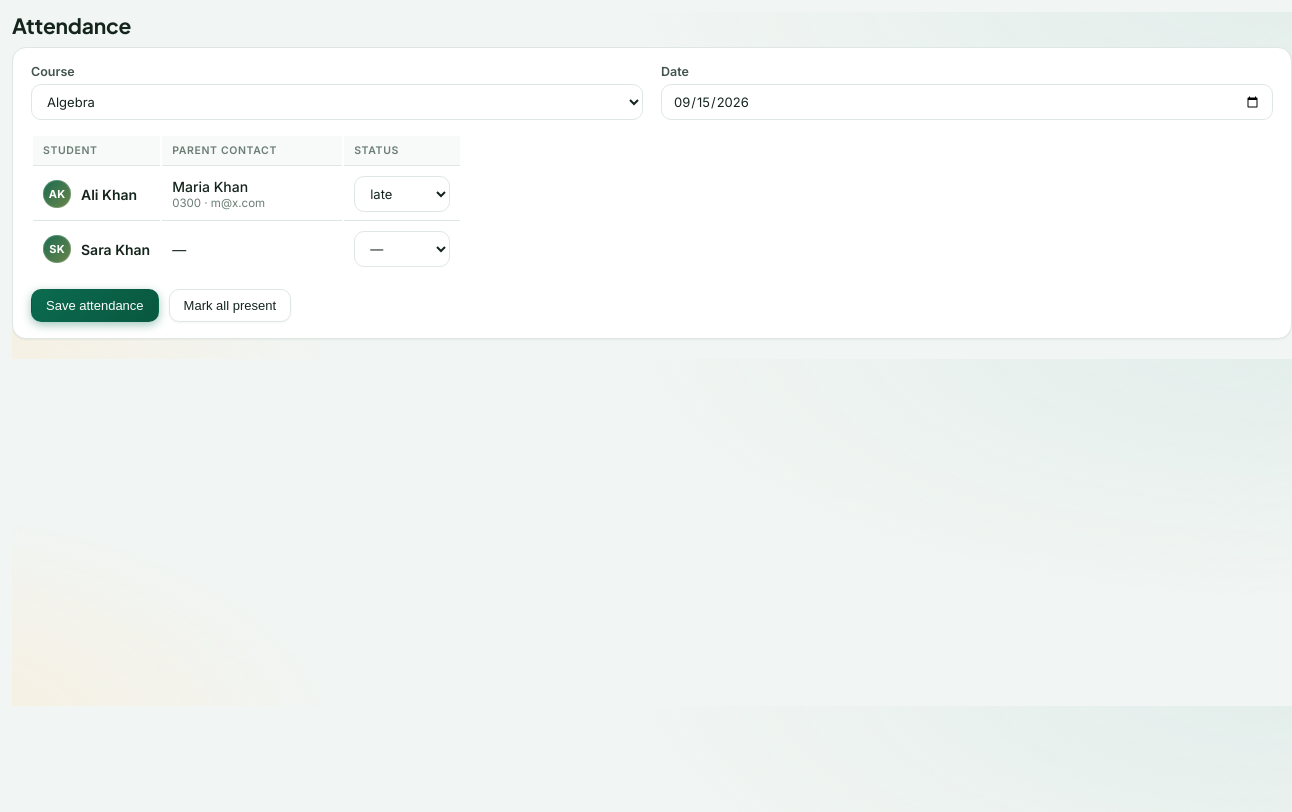
Attendance page › marks all students present
Check: the text "Ali Khan" is shown, box [43,180,137,208]
What coordinates should you click on to do the following:
click the button "Mark all present"
I would click on:
 (230, 306)
Its box is [169,289,291,322].
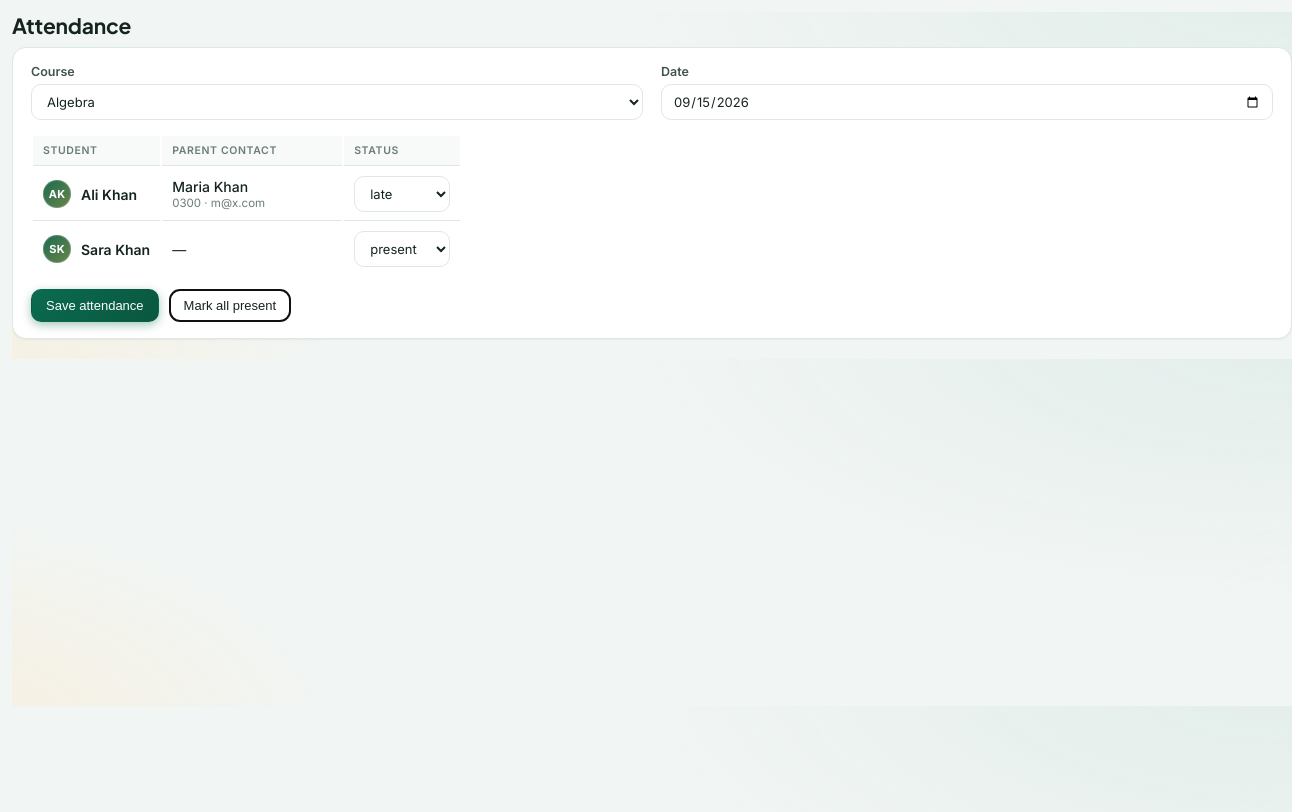
Check: the dropdown in the row of "AK" shows "late", box [354,176,450,212]
Check: the 3rd dropdown shows "present", box [354,231,450,267]
